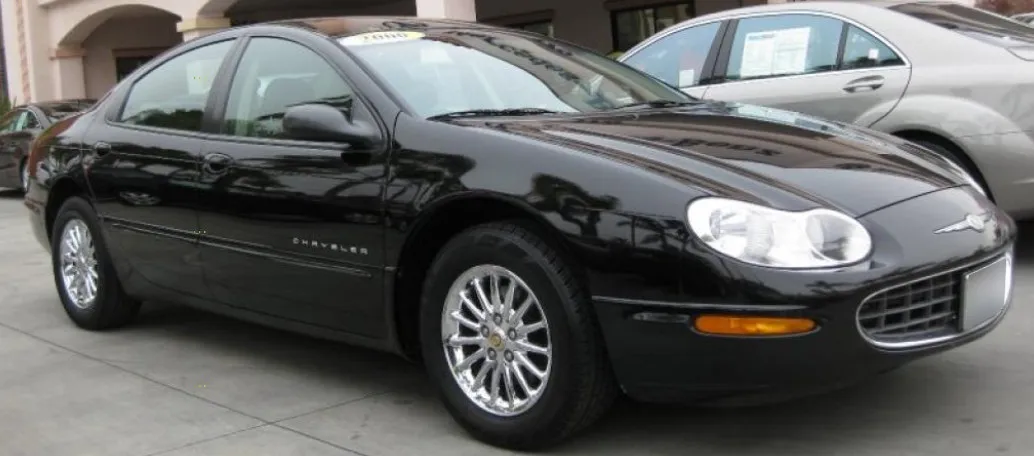car: (13, 12, 1024, 449)
